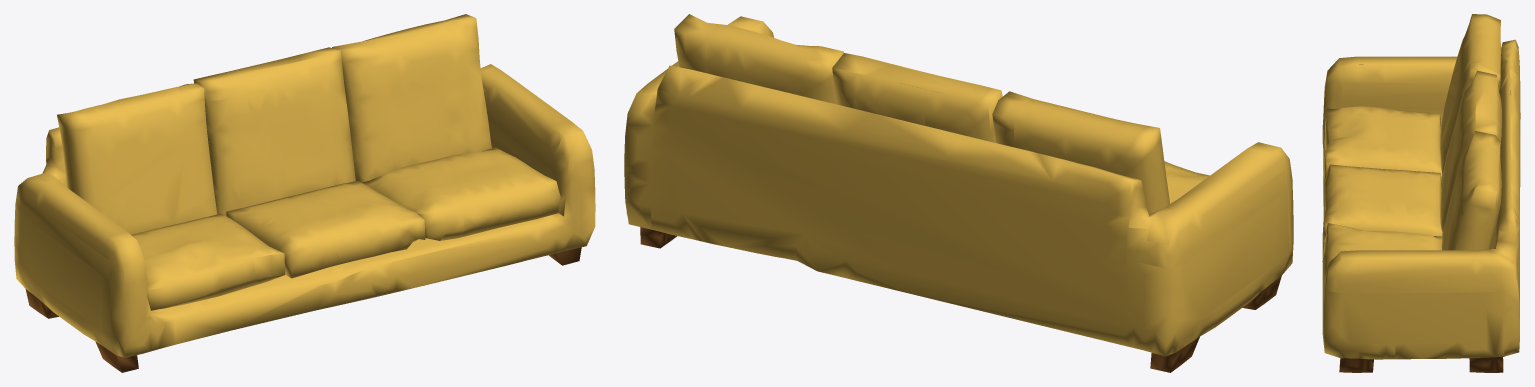
File: soffaaaa.glb
3 renders of one model, left to right at view 1: azimuth 30°, elevation 25°; view 2: azimuth 150°, elevation 25°; view 3: azimuth 270°, elevation 25°, orthographic. The views are drawn at different scales.
Visible parts, largest first — view 1: lowcanba; view 2: lowcanba; view 3: lowcanba.
Part boxes in pixels (box(x1,y1,x2,y2)): lowcanba: box(14, 14, 595, 372); lowcanba: box(624, 14, 1293, 372); lowcanba: box(1322, 14, 1520, 372).
Bounding box in the file's own units: 2 × 0.7755 × 0.8031.
